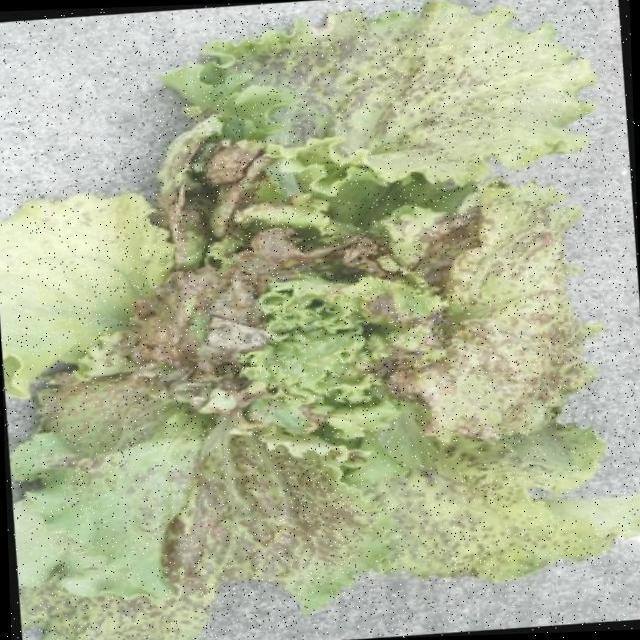Healthy: (169, 72, 576, 584)
